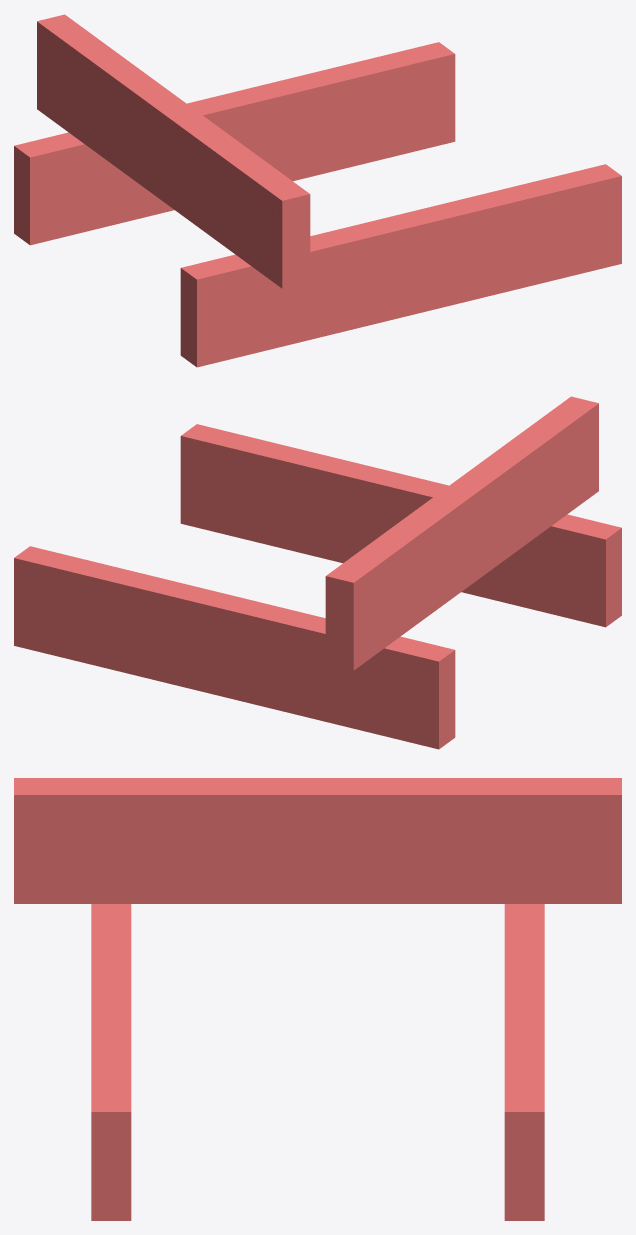
Rendered from env7.dae.
3 renders of one model, top to bottom at view 1: azimuth 30°, elevation 25°; view 2: azimuth 150°, elevation 25°; view 3: azimuth 270°, elevation 25°, orthographic. The views are drawn at different scales.
Parts seen in each view (by area): view 1: base (×3); view 2: base (×3); view 3: base (×3).
Boxes of the visible parts, left/top/right/bottom form: base (×3): left=14, top=14, right=621, bottom=367; base (×3): left=14, top=396, right=621, bottom=749; base (×3): left=14, top=778, right=621, bottom=1220.
Size of the model in its own units: 0.1177 by 0.1177 by 0.0466.
